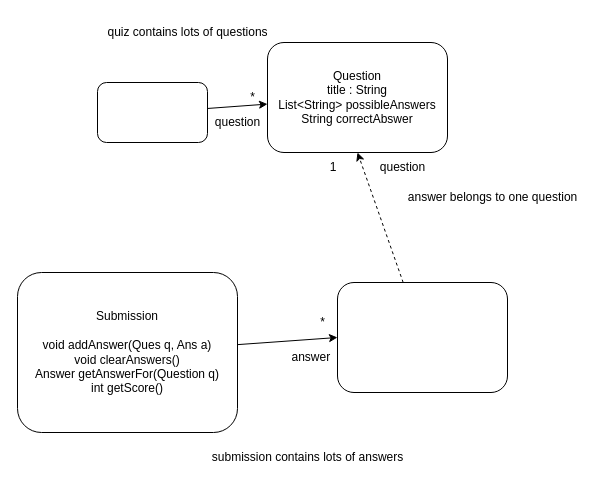
The diagram is 605 pixels wide and 489 high, and some of its shapes have lost their labels. The box of each missing label's shape, as (x1, y1, x2, y2) in pixels:
Answer String userInputAnswer bool isCorrect: (336, 282, 508, 392)
Quiz title : string: (96, 82, 208, 142)
